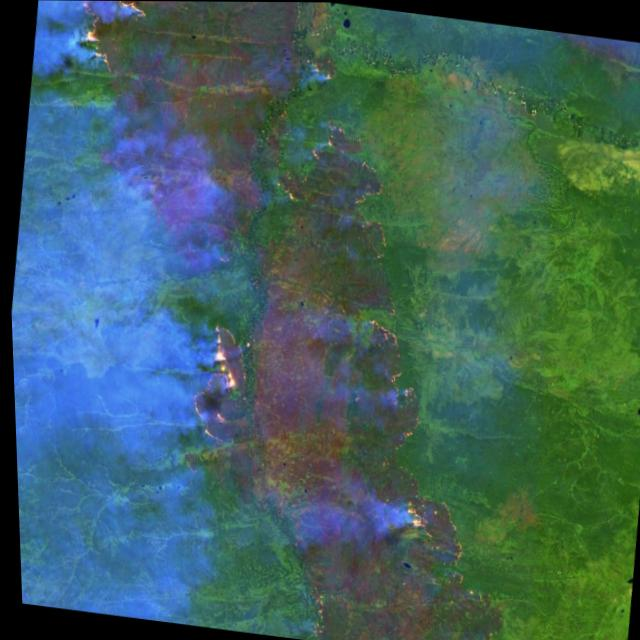fire: (180, 318, 260, 449), (66, 0, 163, 82), (390, 478, 469, 571)
